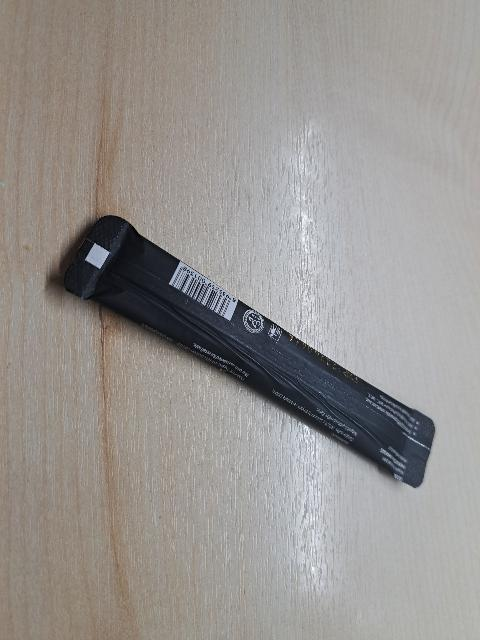espresso_mini: (48, 199, 440, 498)
